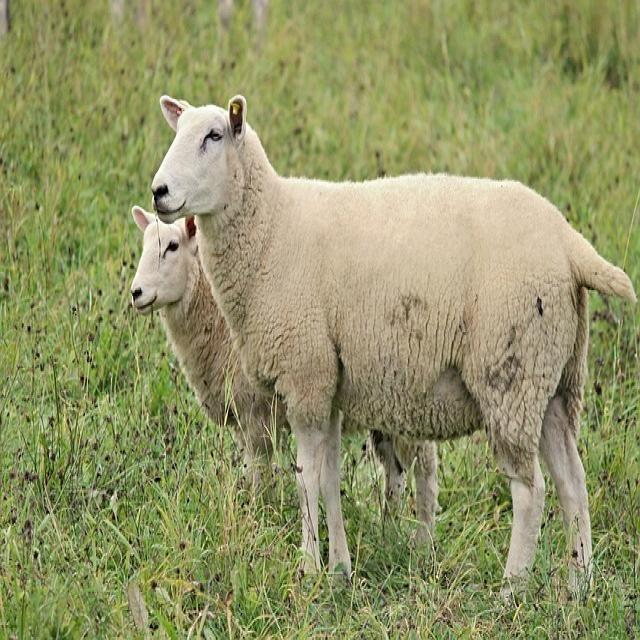goat: (150, 98, 639, 598), (130, 206, 274, 469)
